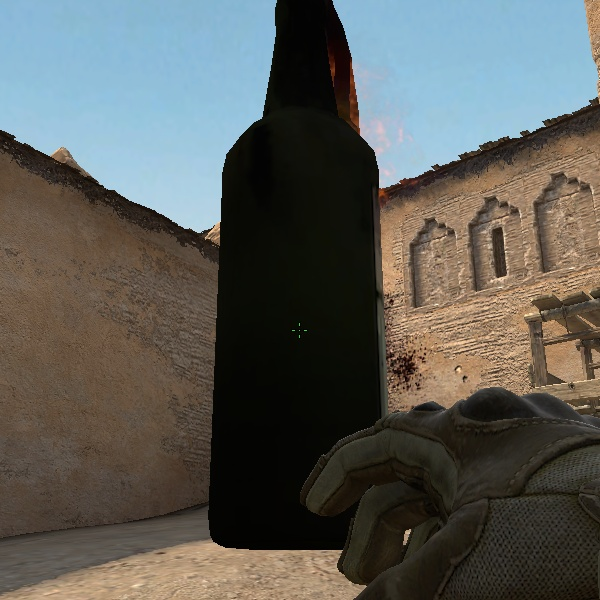ct_body: (157, 1, 591, 585)
